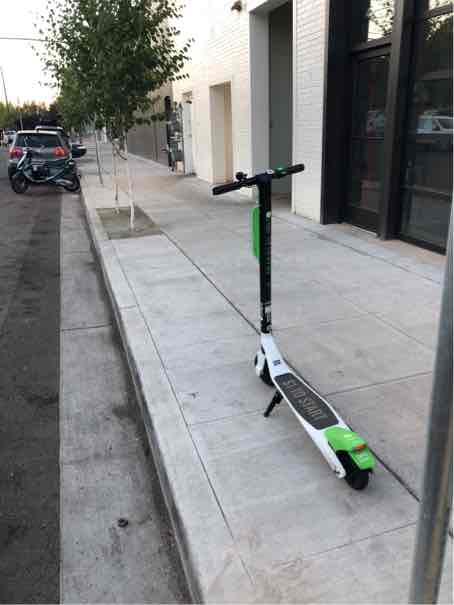scooter: (205, 163, 381, 483)
